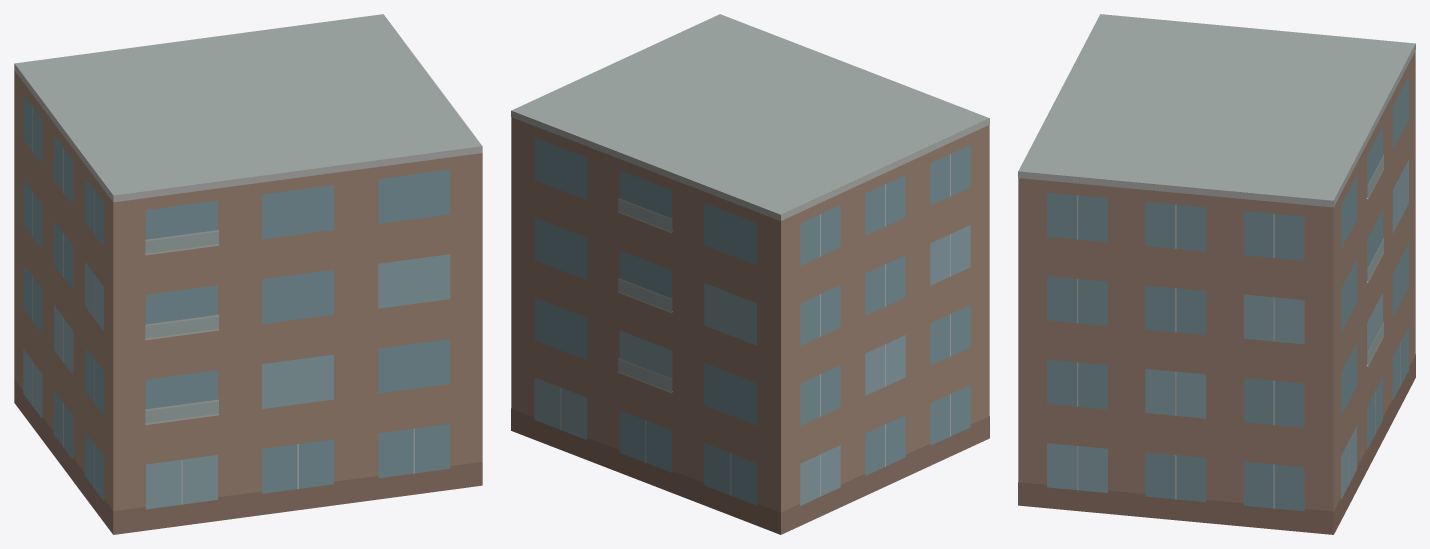
The model's file is residential-5d4441e5-f9b6-4a38-b608-0de45ddb3d7b.glb.
3 renders of one model, left to right at view 1: azimuth 30°, elevation 25°; view 2: azimuth 150°, elevation 25°; view 3: azimuth 270°, elevation 25°, orthographic. The views are drawn at different scales.
Parts seen in each view (by area): view 1: residential-5d4441e5-f9b6-4a38-b608-0de45ddb3d7b.tmp; view 2: residential-5d4441e5-f9b6-4a38-b608-0de45ddb3d7b.tmp; view 3: residential-5d4441e5-f9b6-4a38-b608-0de45ddb3d7b.tmp.
Part boxes in pixels (<box>): residential-5d4441e5-f9b6-4a38-b608-0de45ddb3d7b.tmp: <box>14,14,482,534</box>; residential-5d4441e5-f9b6-4a38-b608-0de45ddb3d7b.tmp: <box>511,14,989,534</box>; residential-5d4441e5-f9b6-4a38-b608-0de45ddb3d7b.tmp: <box>1018,14,1415,534</box>.
Bounding box in the file's own units: 14.64 × 12.2 × 13.17.
